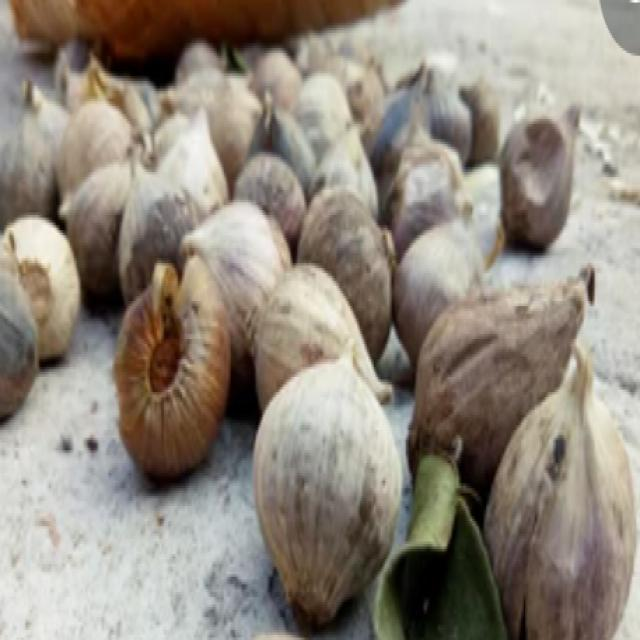rotten: (291, 166, 378, 284), (508, 99, 568, 222), (152, 324, 200, 456), (140, 164, 195, 276), (542, 425, 587, 531)
